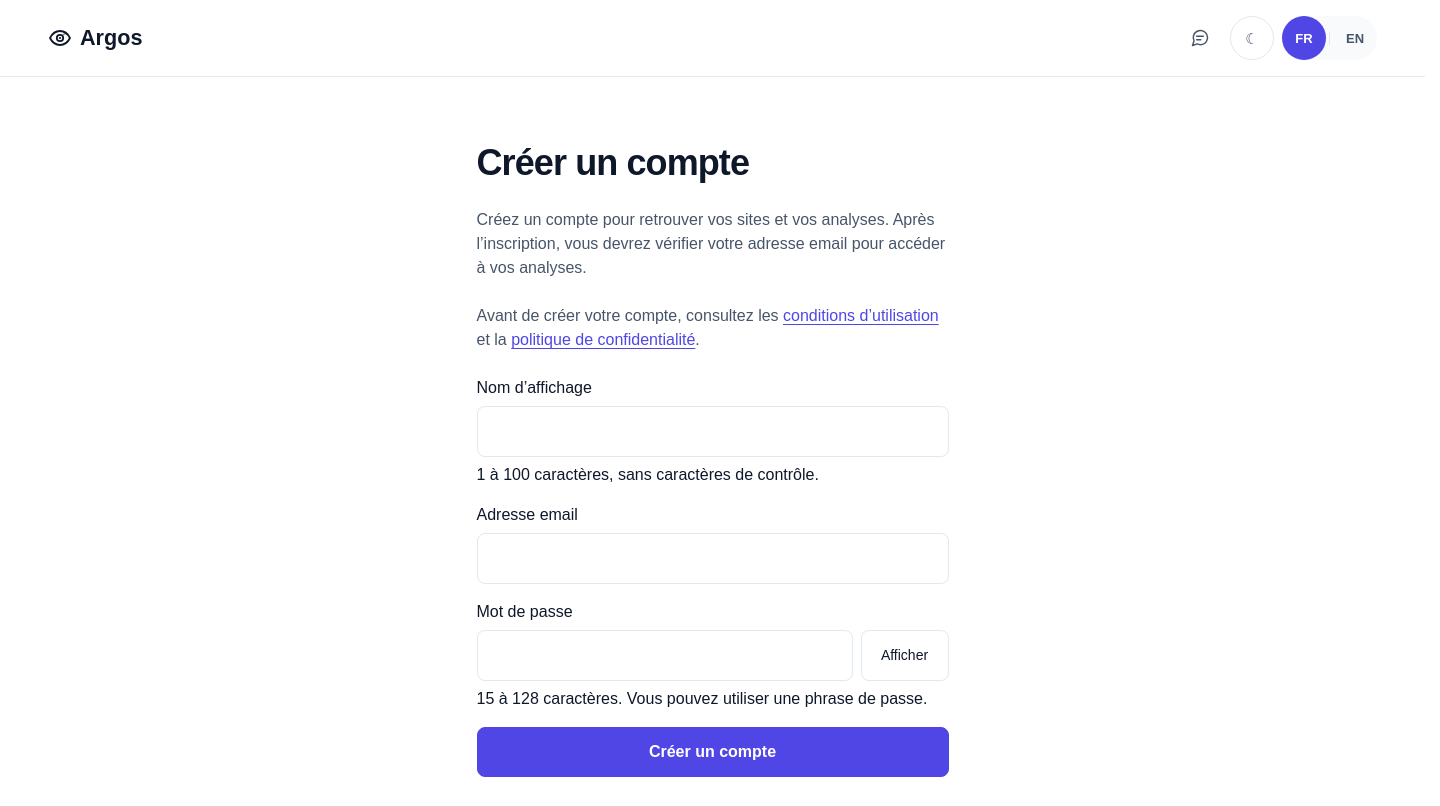
Test case: explains registration and offers a non-revealing focused confirmation with correction in fr
Expected: the text "Créez un compte pour retrouver vos sites et vos analyses. Après l’inscription, vous devrez vérifier votre adresse email " is shown, [476, 211, 945, 276]
Expected: the text "Avant de créer votre compte, consultez les" is shown, [476, 307, 779, 324]
Type "Fixture" into the field labelled "Nom d’affichage" at (712,432), box [476, 406, 948, 457]
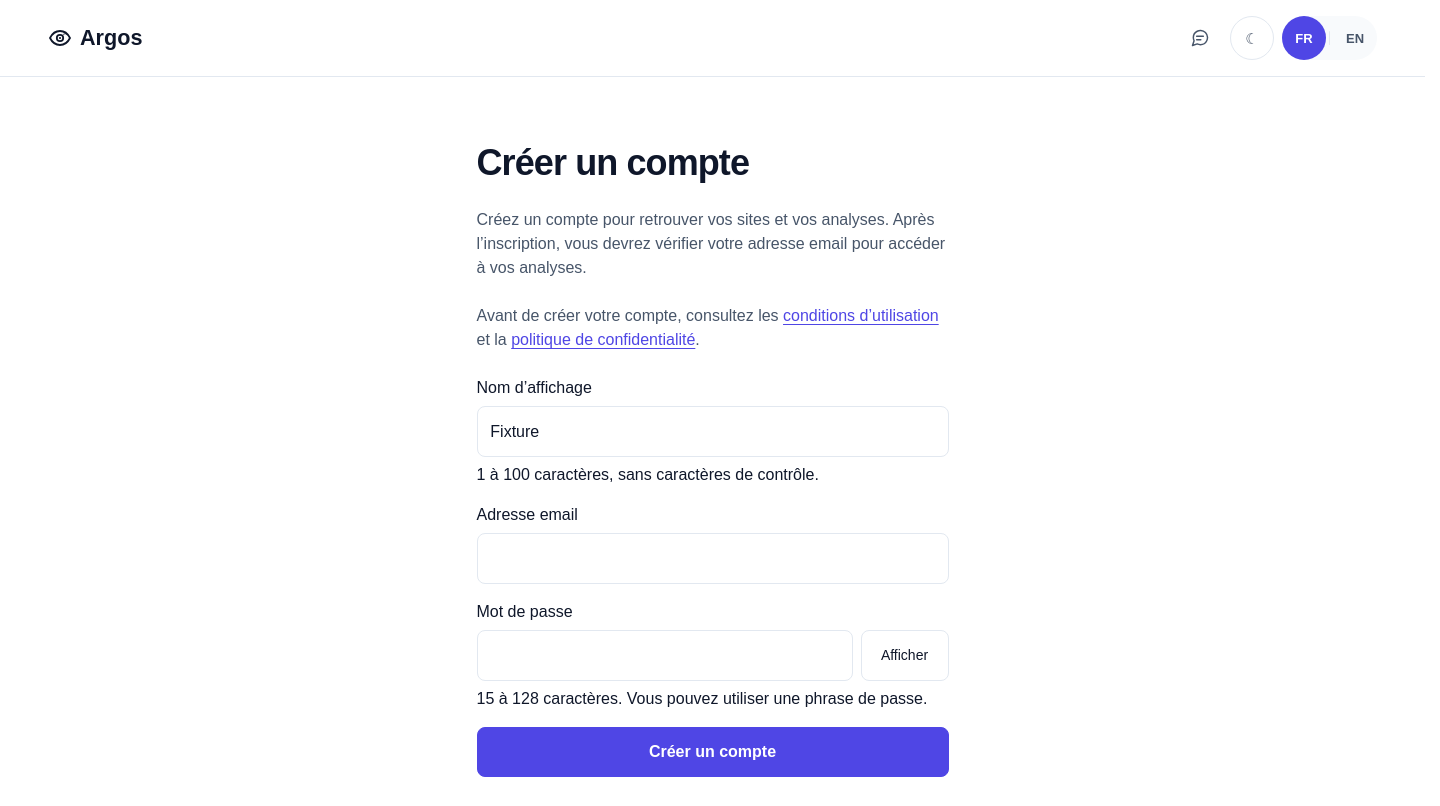
Type "fixture@example.invalid" into the field labelled "Adresse email" at (712,558), box [476, 533, 948, 584]
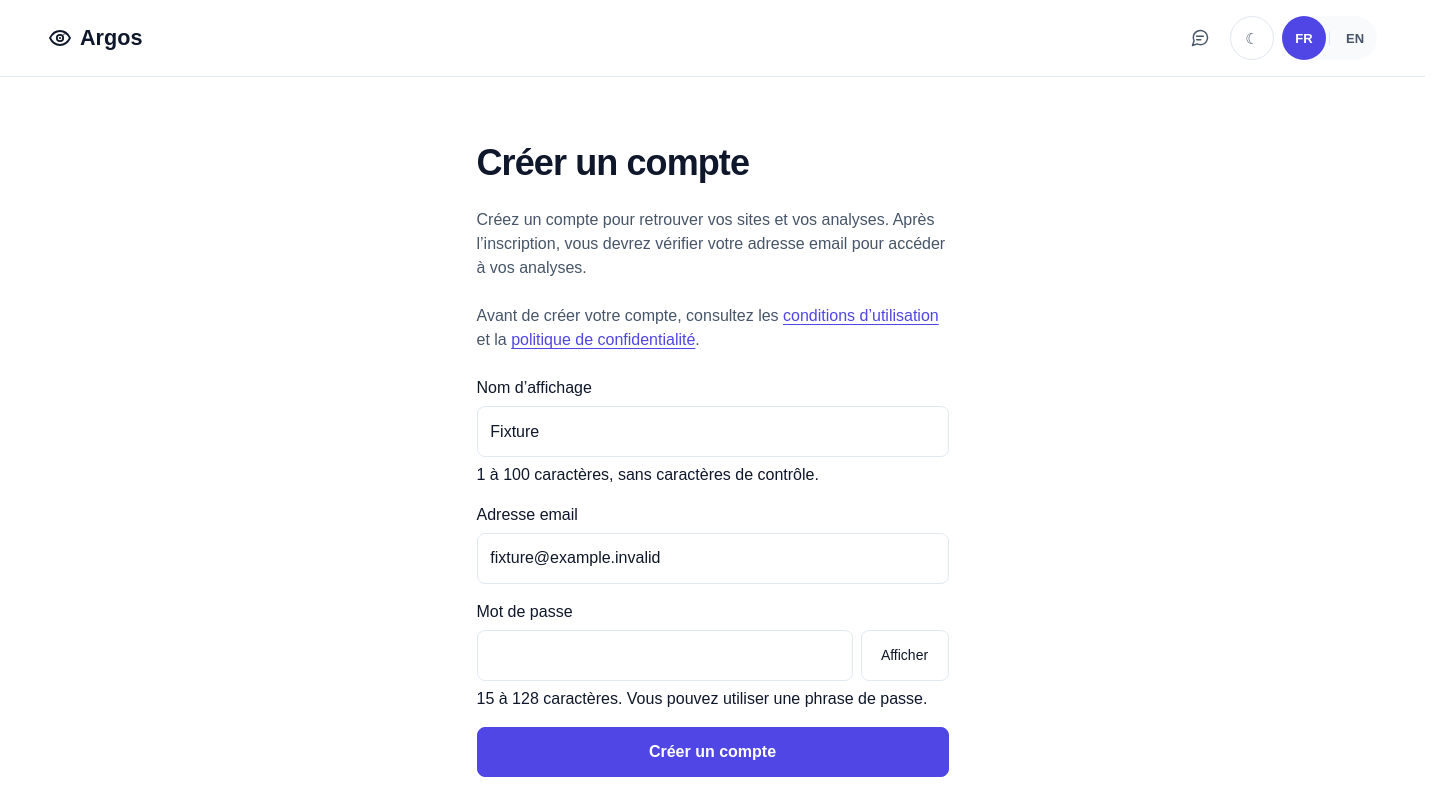
Type "synthetic long passphrase" into the password field labelled "Mot de passe" at (664,656), box [476, 630, 852, 681]
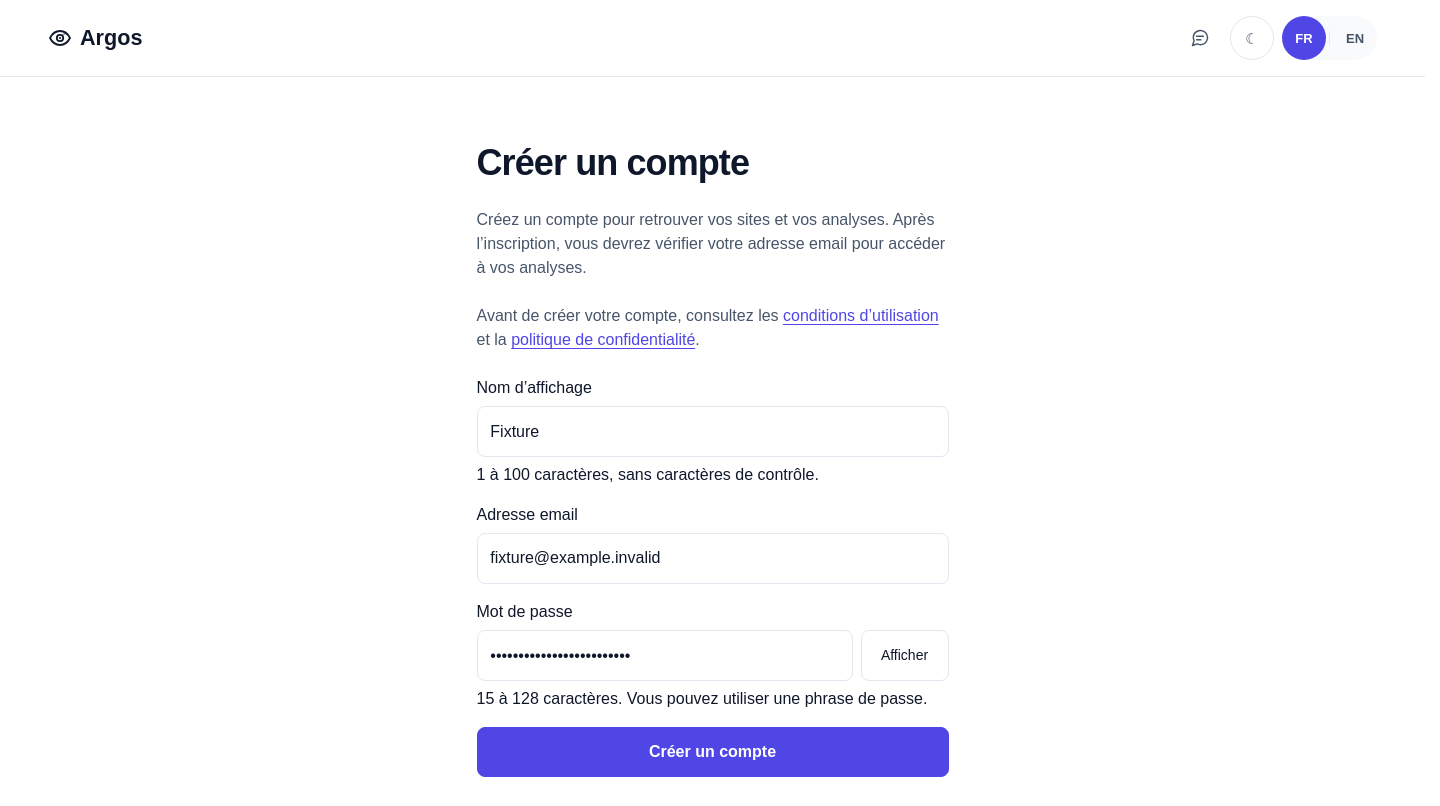
Submit the form named "Créer un compte", box [476, 376, 948, 777]
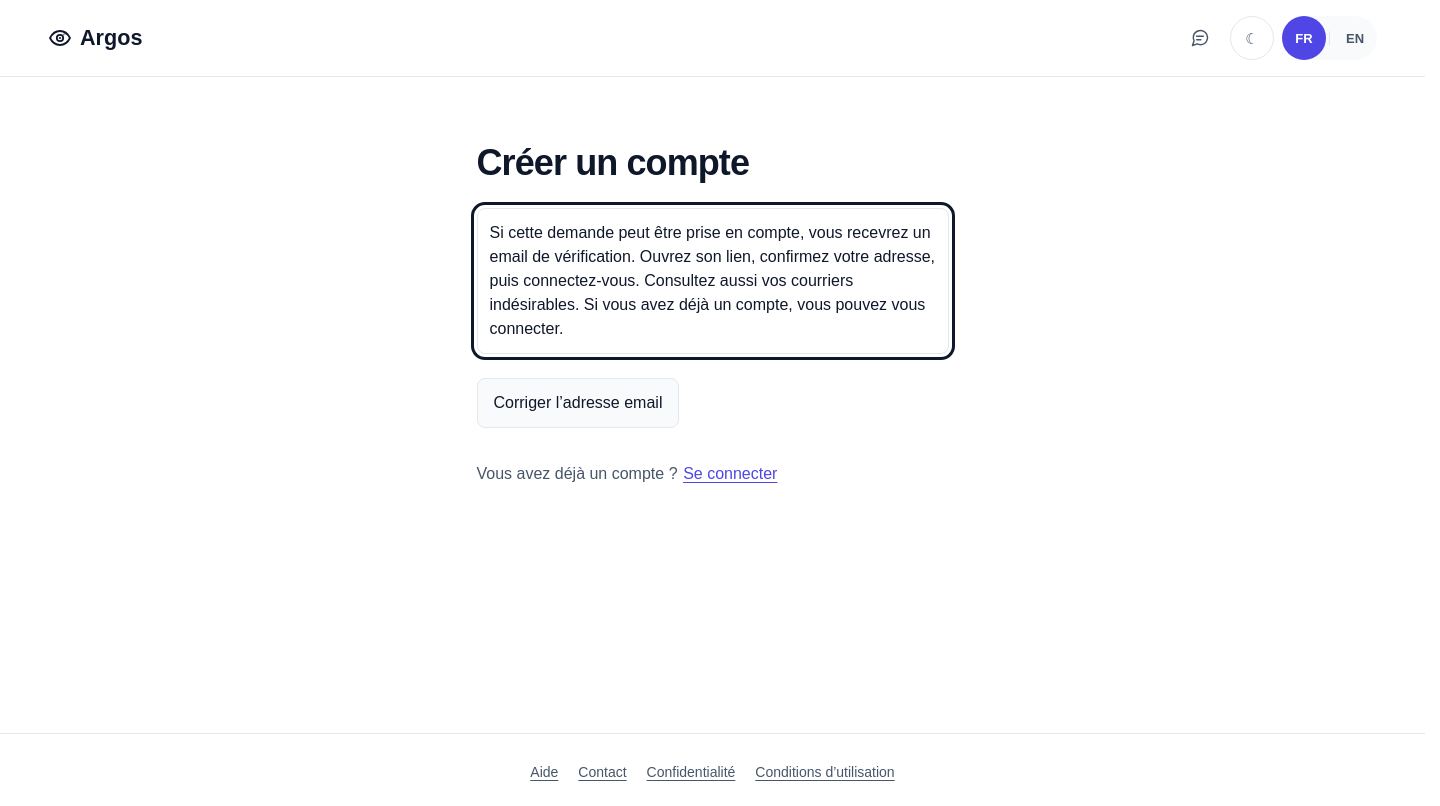
Result: the message shows "Si cette demande peut être prise en compte, vous recevrez un email de vérification. Ouvrez son lien, confirmez votre adresse, puis connectez-vous. Consultez aus" at [490, 224, 935, 337]
Result: the label labelled "Mot de passe" is gone
Click the button "Corriger l’adresse email" at (578,403), box [476, 378, 680, 428]
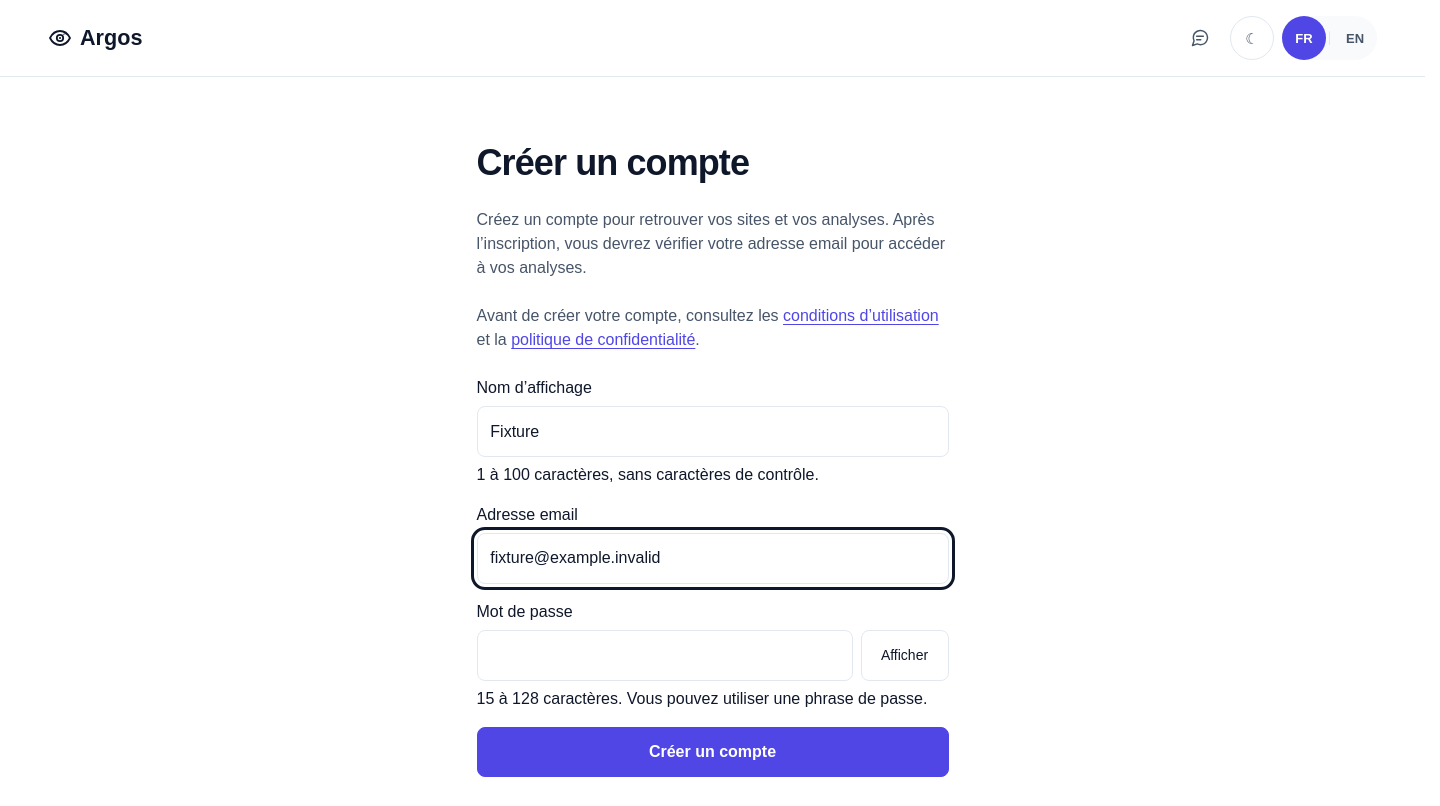
Expected: the password field labelled "Mot de passe" is empty, [476, 630, 852, 681]
Result: the field labelled "Adresse email" holds "fixture@example.invalid" at [476, 533, 948, 584]
Result: the field labelled "Nom d’affichage" holds "Fixture" at [476, 406, 948, 457]
